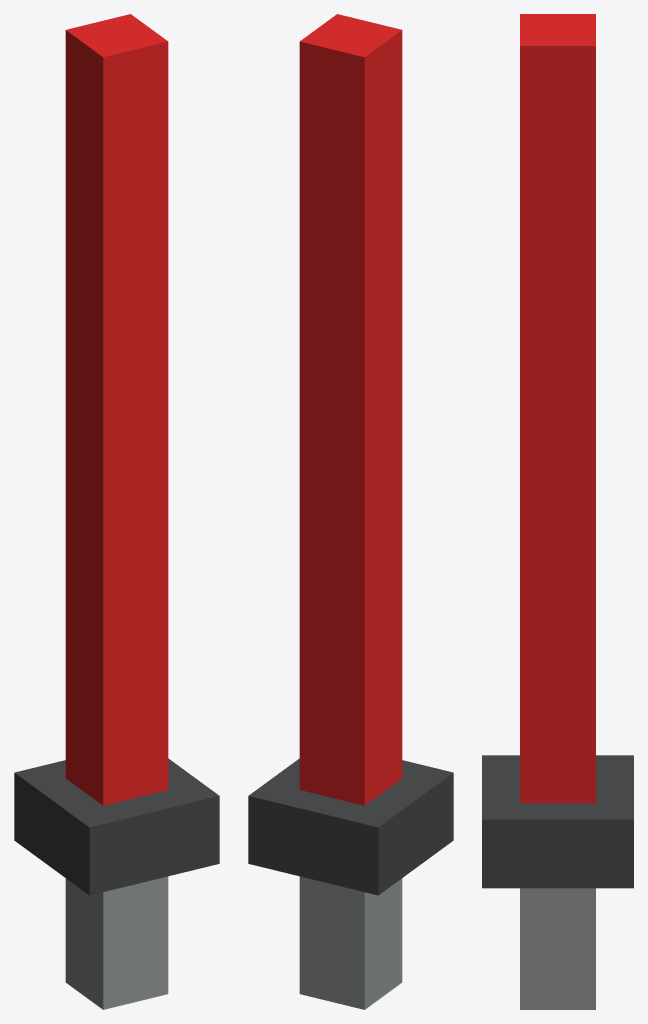
Rendered from RealSword.fbx.
3 renders of one model, left to right at view 1: azimuth 30°, elevation 25°; view 2: azimuth 150°, elevation 25°; view 3: azimuth 270°, elevation 25°, orthographic.
Visible parts, largest first — view 1: cube_2, cube_1, cube; view 2: cube_2, cube_1, cube; view 3: cube_2, cube_1, cube.
Part boxes in pixels (x1,y1,x2,y2): cube_2: (65,14,168,805); cube_1: (14,758,219,895); cube: (65,876,168,1009); cube_2: (299,14,402,805); cube_1: (248,758,453,895); cube: (299,876,402,1009); cube_2: (520,14,595,803); cube_1: (482,755,633,888); cube: (520,888,595,1009).
Size of the model in its own units: 25 by 175 by 25.
1 material, 1 textured.
